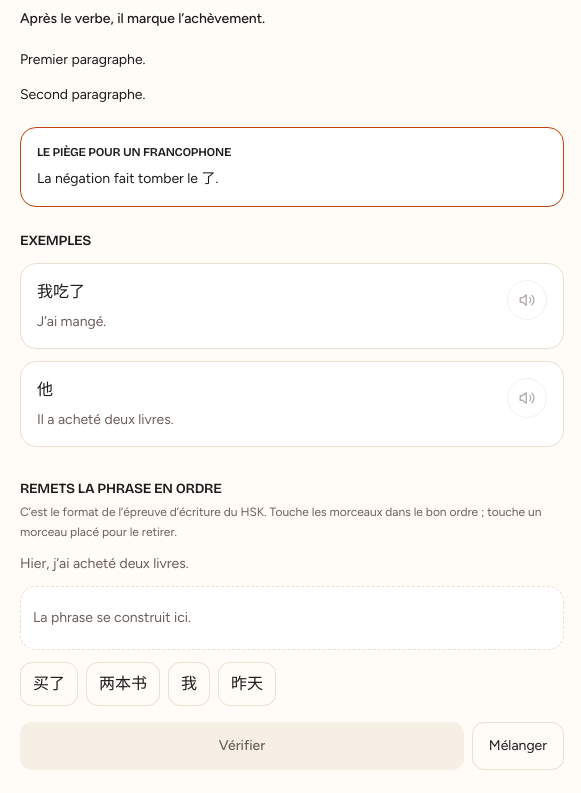
Test case: PointScreen › accepte l’ordre canonique
(page scrolled)
Click the button named "Placer 我": (189, 684) [168,662,210,706]
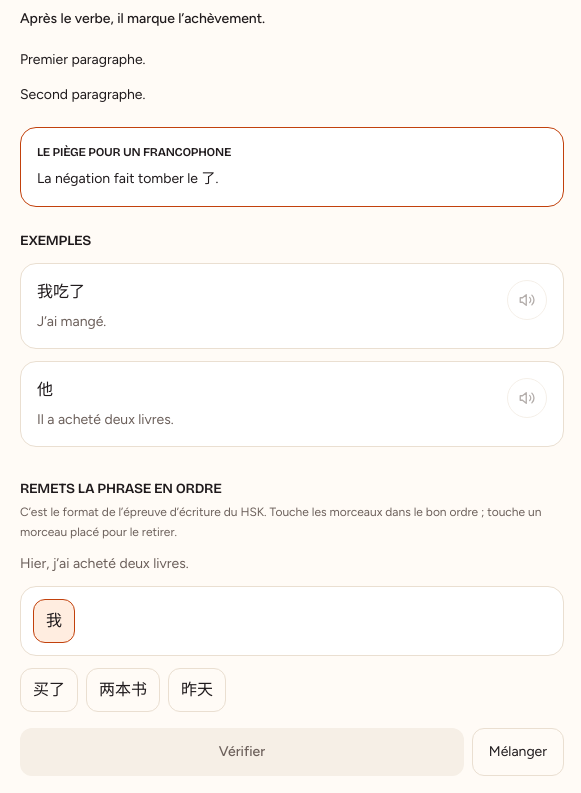
Click the button "昨天": (197, 690) [168,668,226,712]
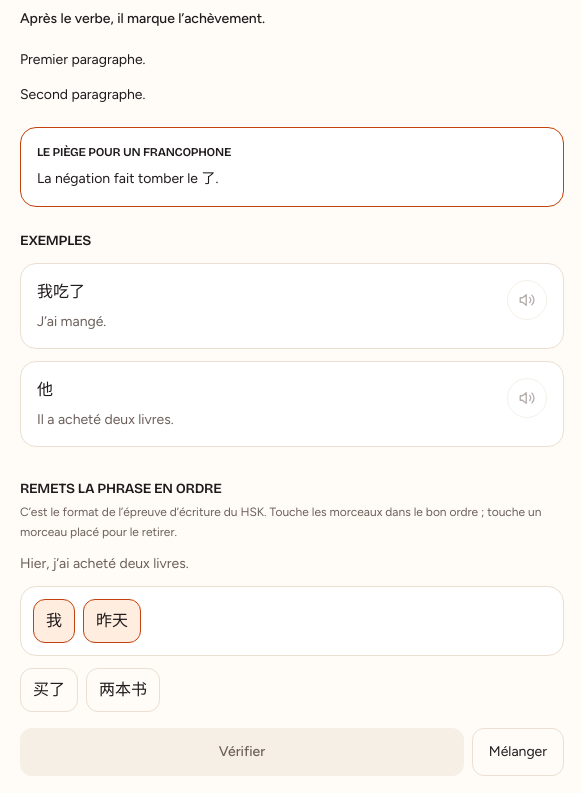
Click the button "买了": (49, 690) [20,668,78,712]
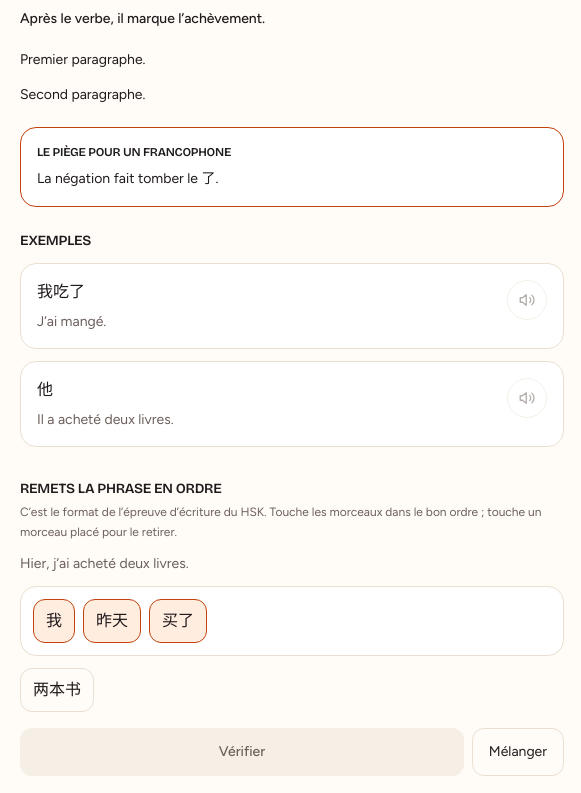
Click the button "两本书": (57, 690) [20,668,94,712]
(page scrolled)
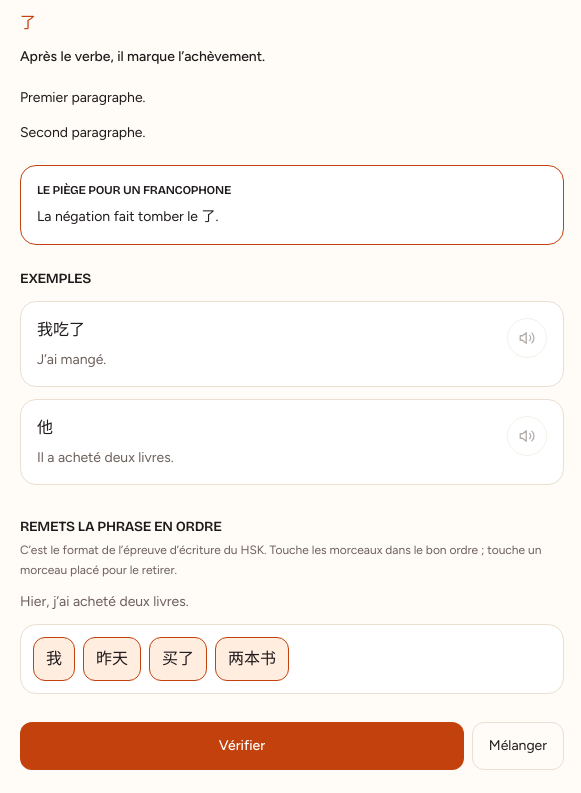
Click the button "Vérifier": (242, 746) [20,722,464,770]
(page scrolled)
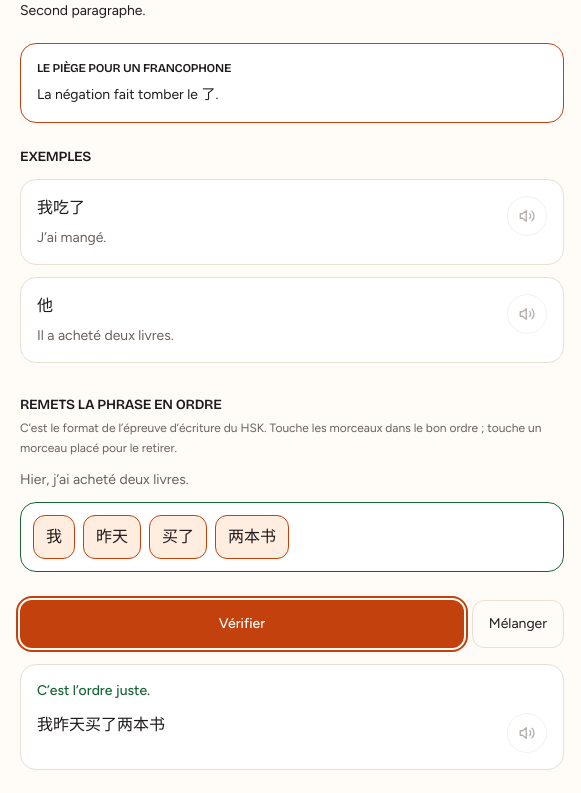
Expected: the text "C’est l’ordre juste." is shown, [37,682,150,699]
